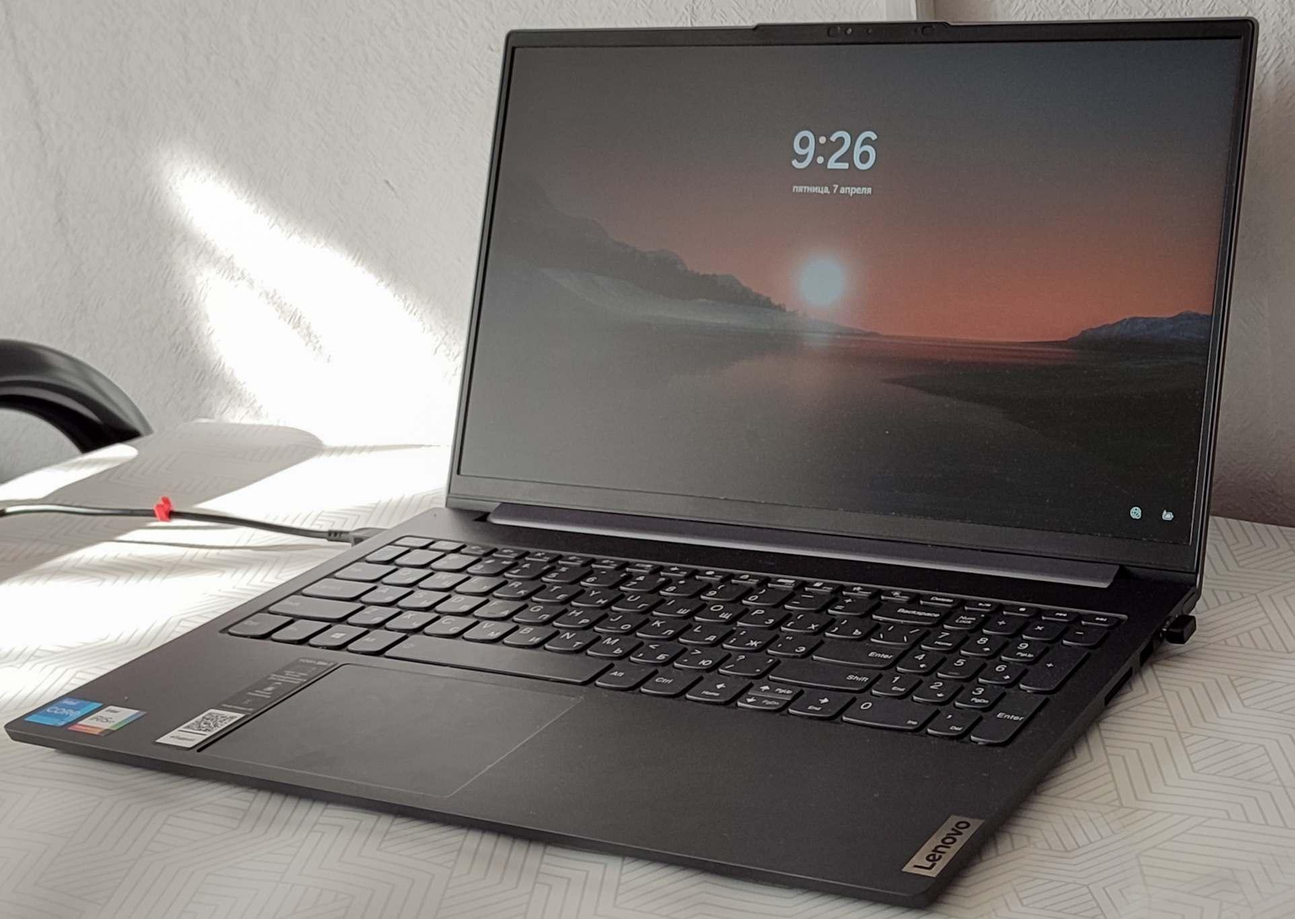monitor: (442, 12, 1260, 595)
